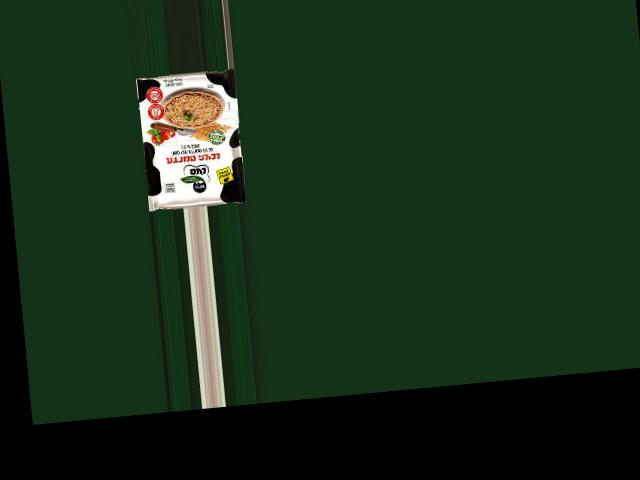cheese: (119, 74, 248, 203)
